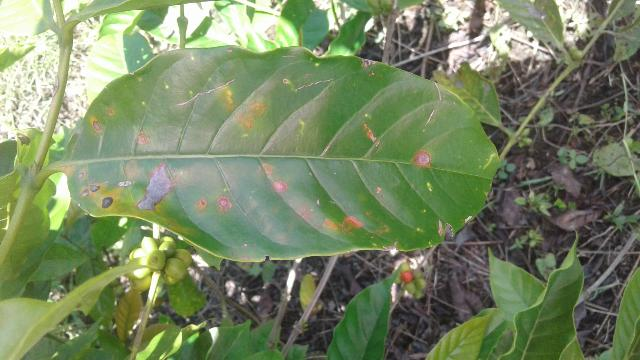rust_level_2: (60, 42, 501, 267)
